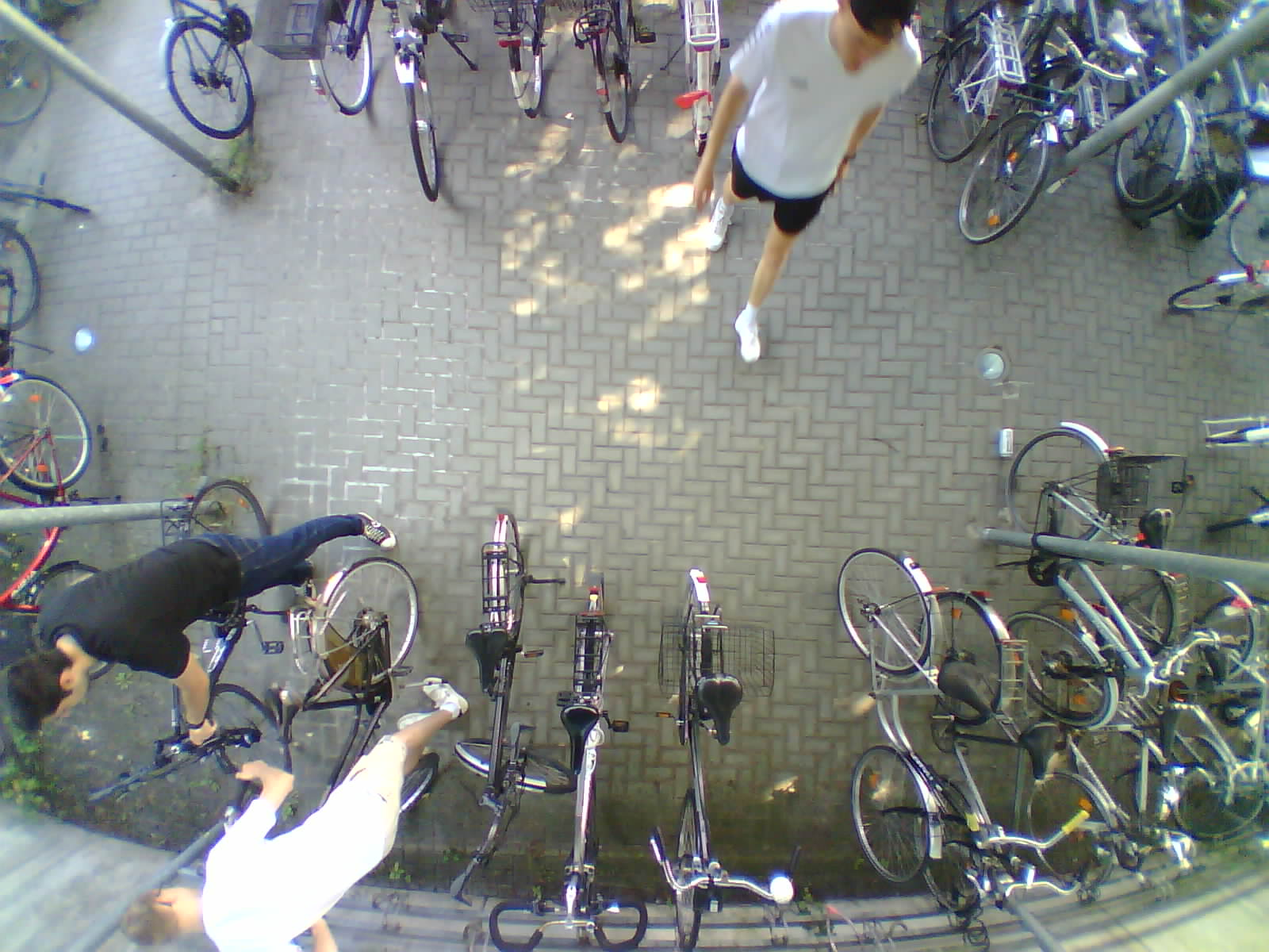bicylce: (999, 409, 1158, 724), (1083, 547, 1256, 832), (834, 543, 961, 875), (1033, 588, 1152, 908), (167, 478, 292, 781), (0, 370, 111, 688), (304, 554, 417, 863), (658, 571, 749, 952), (929, 587, 1015, 914), (470, 513, 543, 886), (555, 572, 622, 947), (977, 0, 1072, 250)
saddle: (698, 670, 746, 748), (935, 658, 993, 719), (1019, 718, 1066, 780), (466, 630, 512, 693), (560, 704, 598, 772), (266, 683, 304, 745), (1106, 11, 1150, 61), (1140, 501, 1179, 556), (1153, 697, 1184, 760), (1204, 638, 1228, 685), (1246, 79, 1269, 119)
